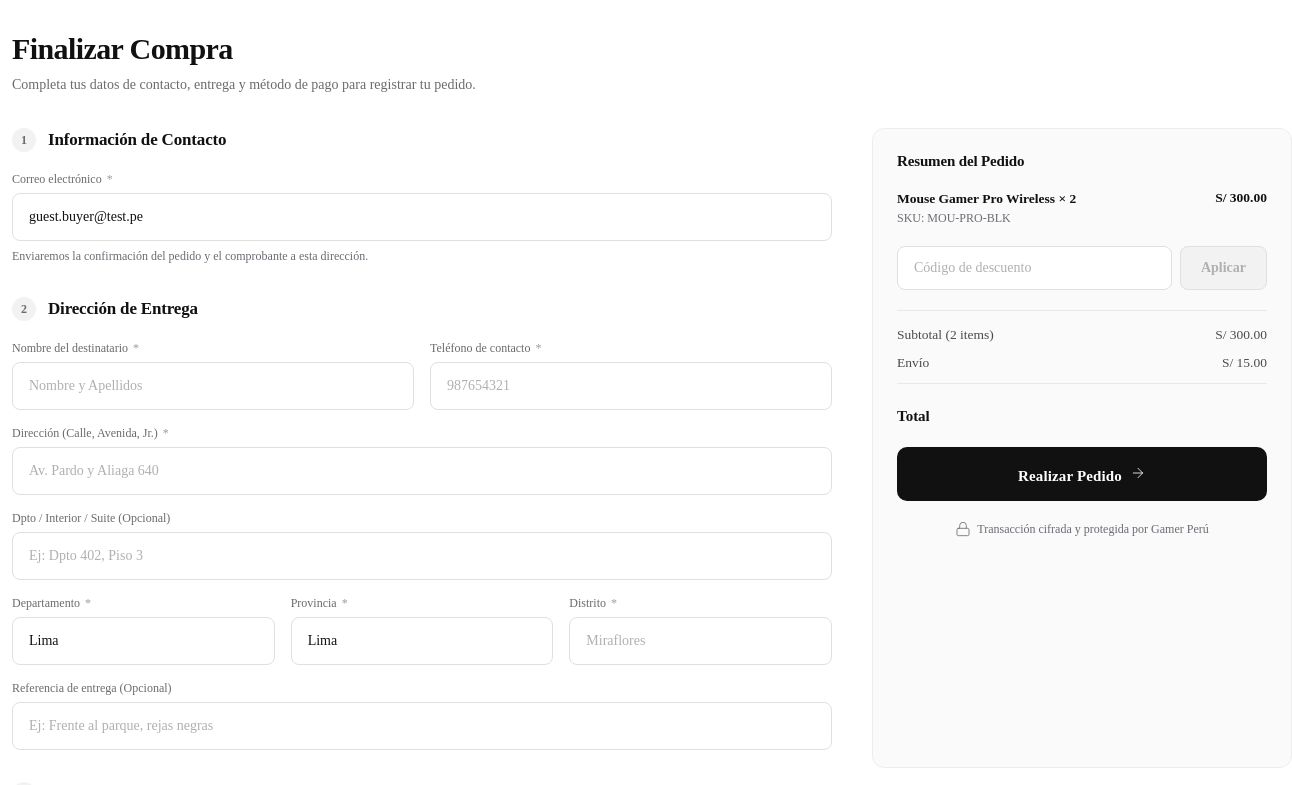
it: GP-018 / CHK6-BR3 — Explicit Selection & Fail-Closed Checkout Suite › 6. Zero-Option Recovery Tests (Section 11) › A. SHIPPING_METHOD_UNAVAILABLE with zero refreshed shipping methods enters fail-closed state with retry control
Step 1. Type "Maria Quispe" into the field with test id "checkout-input-recipient-name" → point(213, 386), box [12,362,414,410]
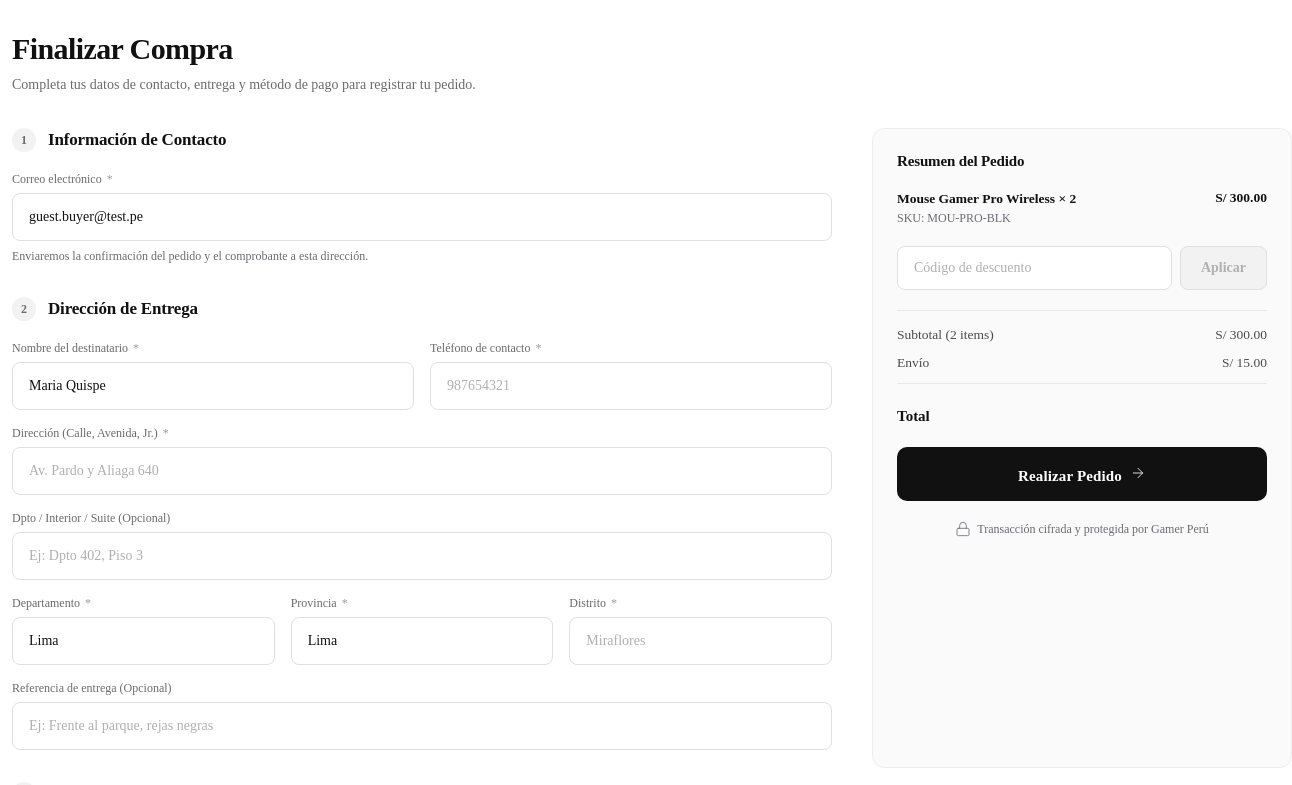
Step 2. Type "998877665" into the field with test id "checkout-input-phone" → point(631, 386), box [430,362,832,410]
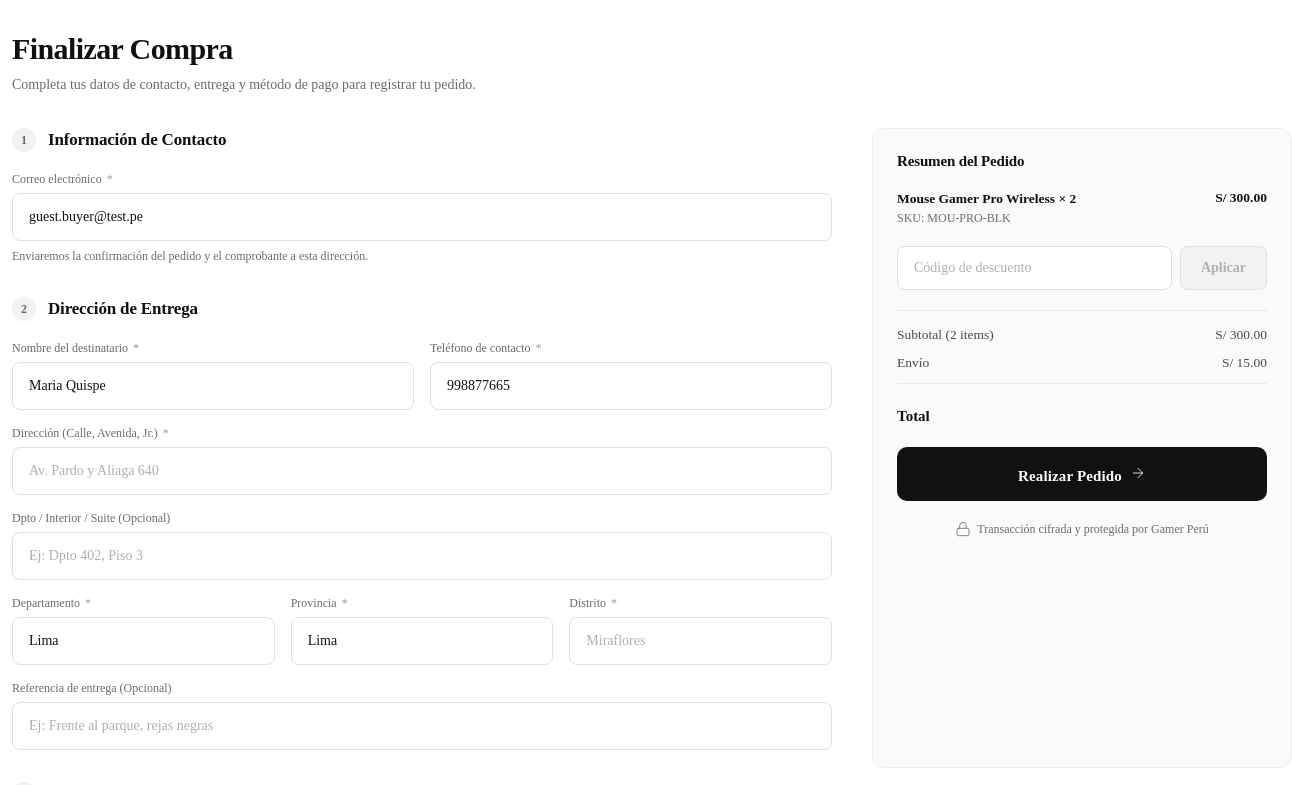
Step 3. Type "Jr. Union 100" into the field with test id "checkout-input-street-address" → point(422, 471), box [12,447,832,495]
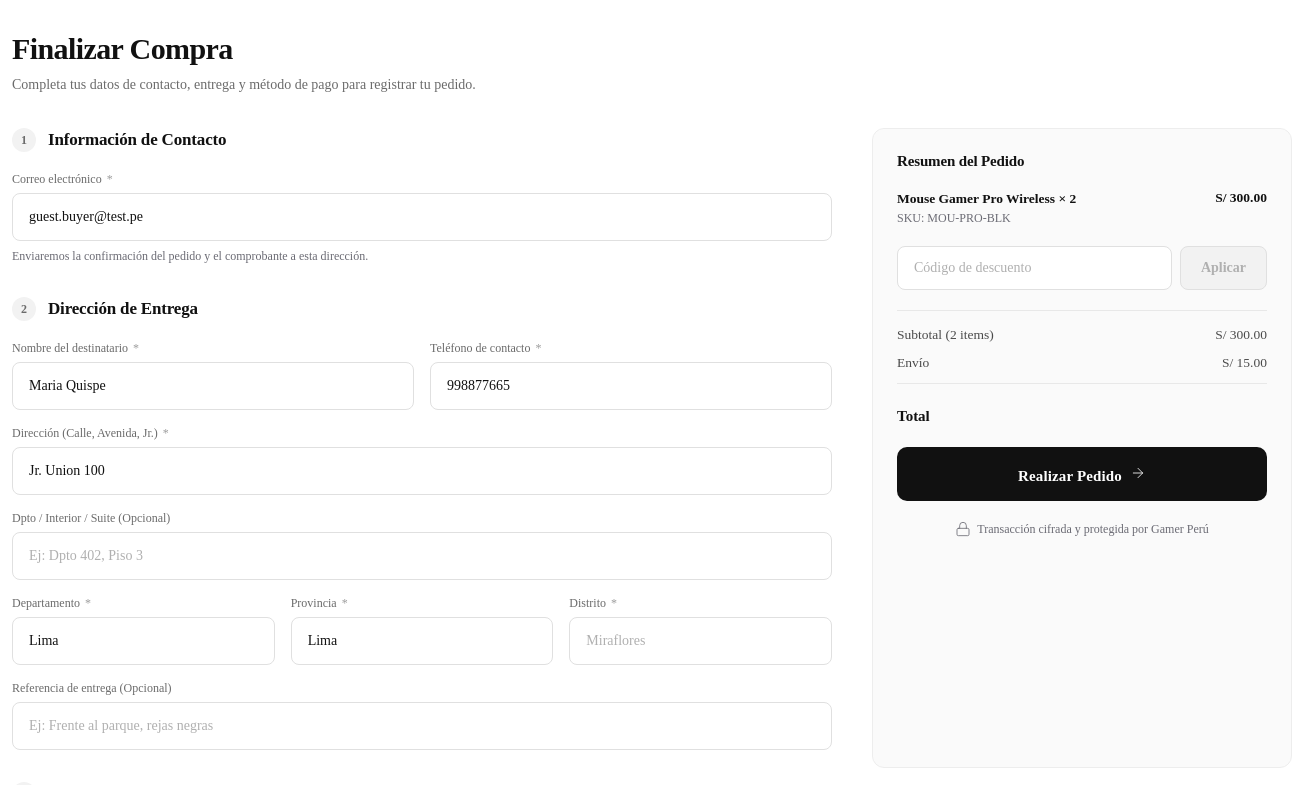
Step 4. Type "Cercado de Lima" into the field with test id "checkout-input-district" → point(701, 641), box [569,617,832,665]
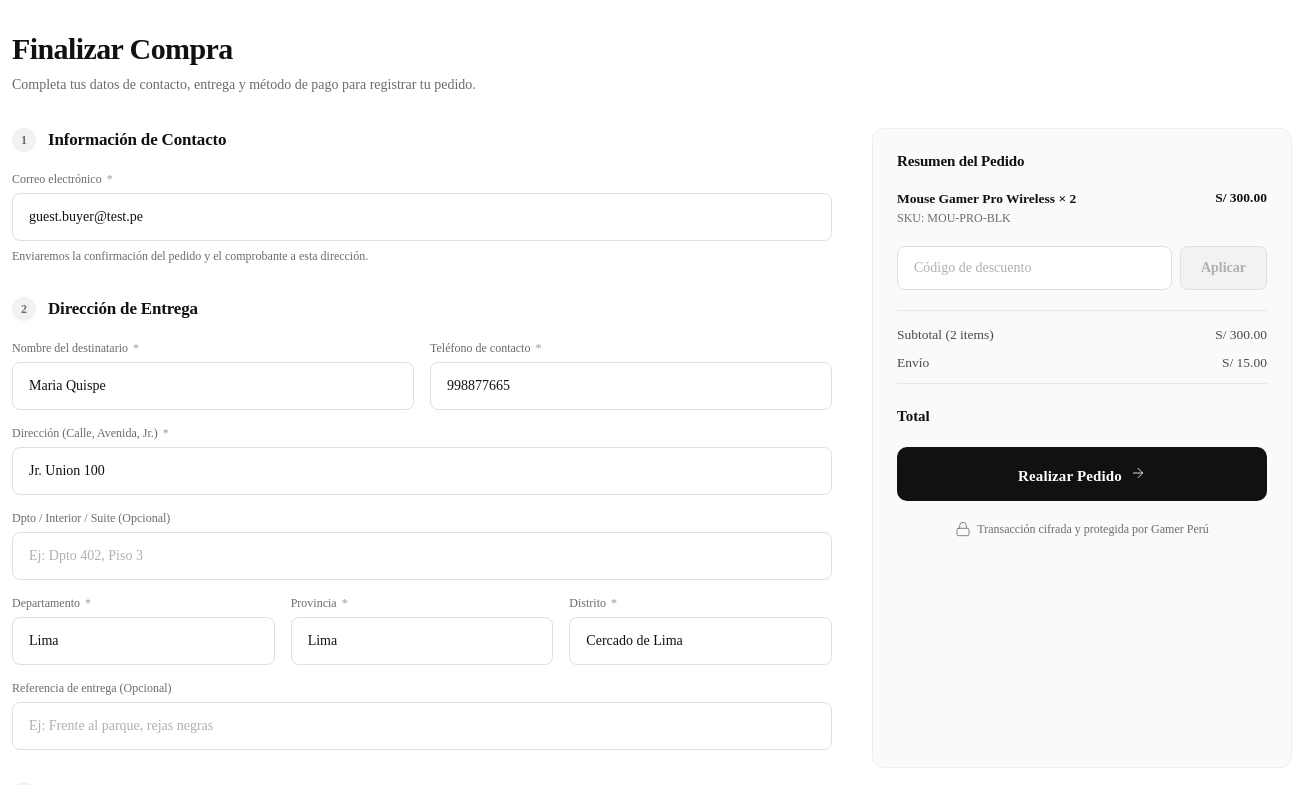
Step 5. Click the button with test id "checkout-submit-button" → point(1082, 474), box [897,447,1267,501]
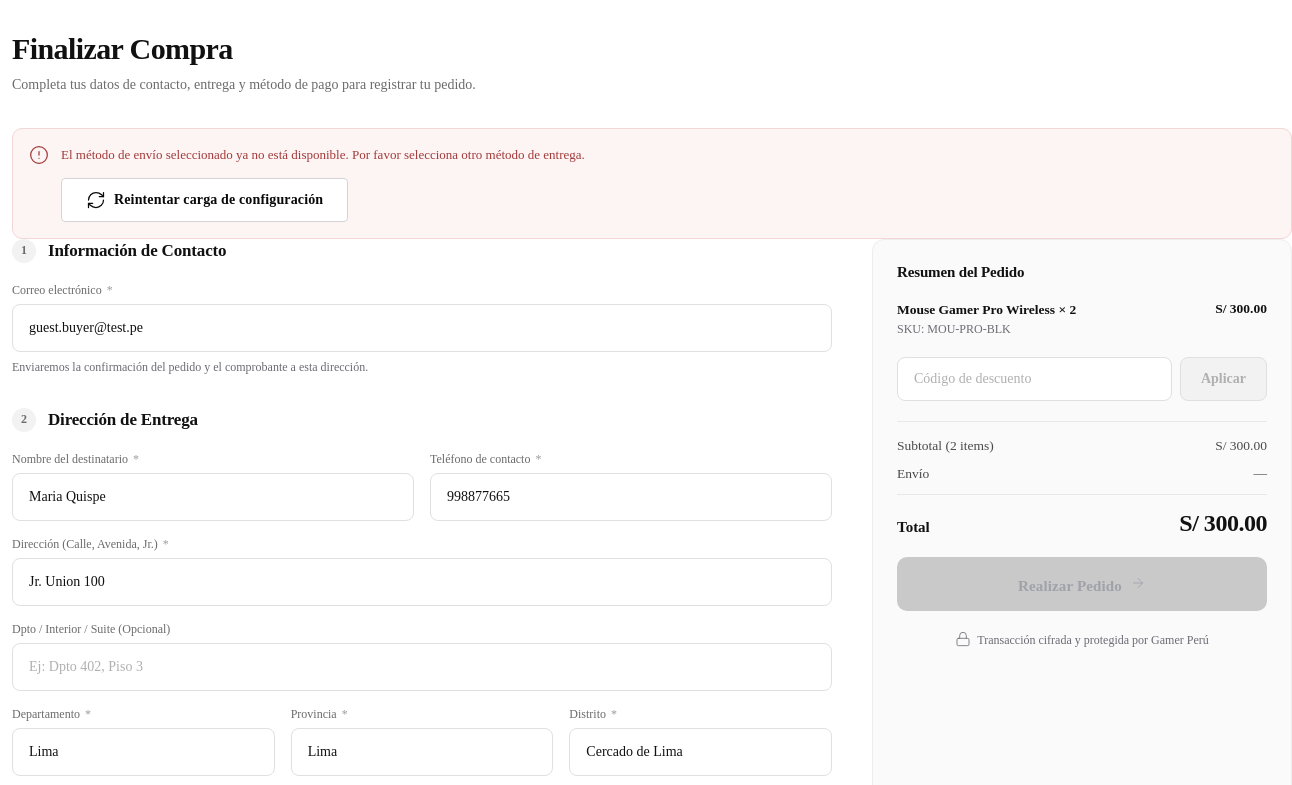
Expected: the button with test id "checkout-submit-button" is disabled, [897,557,1267,611]
Expected: the button with test id "checkout-retry-config-button" is shown, [61,178,348,222]
